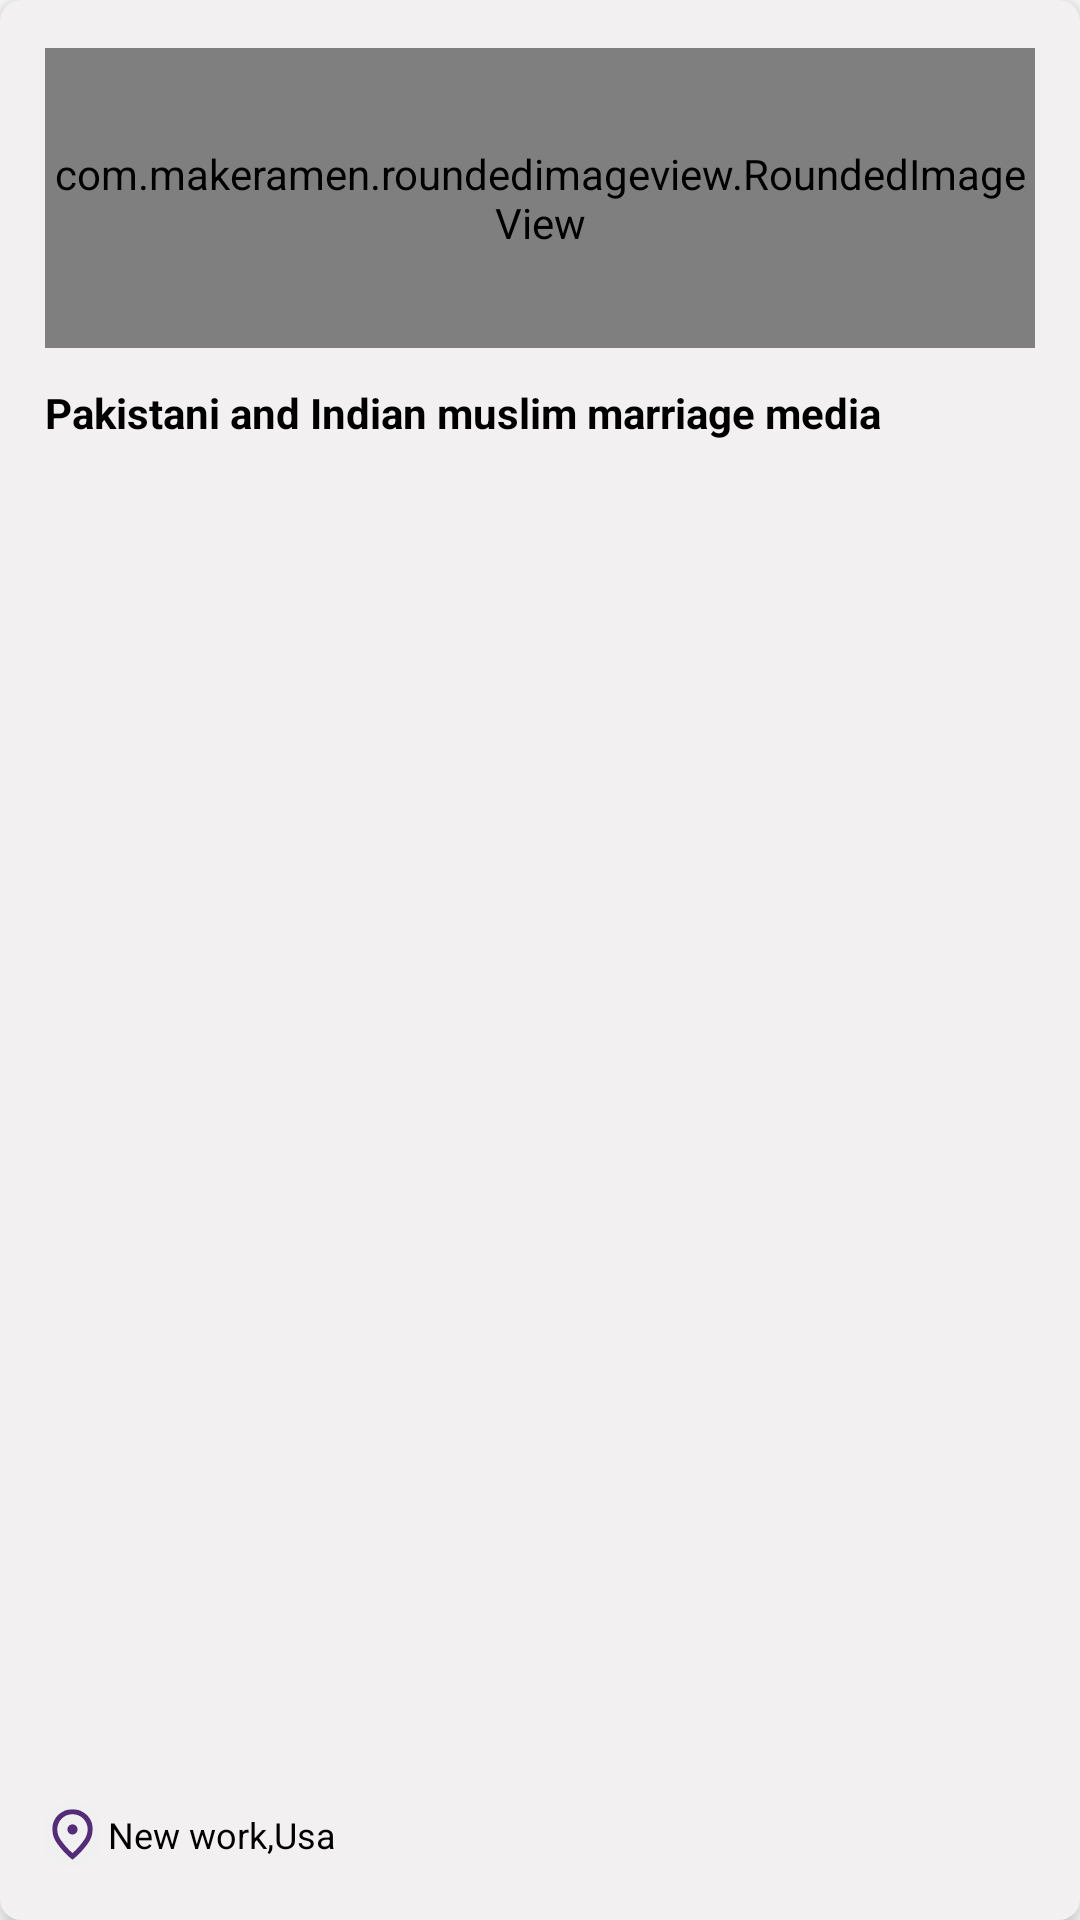

Icon click points for this 1080 × 1920 phone screenshot, format (x=x, y=y):
location: (x=72, y=1834)
